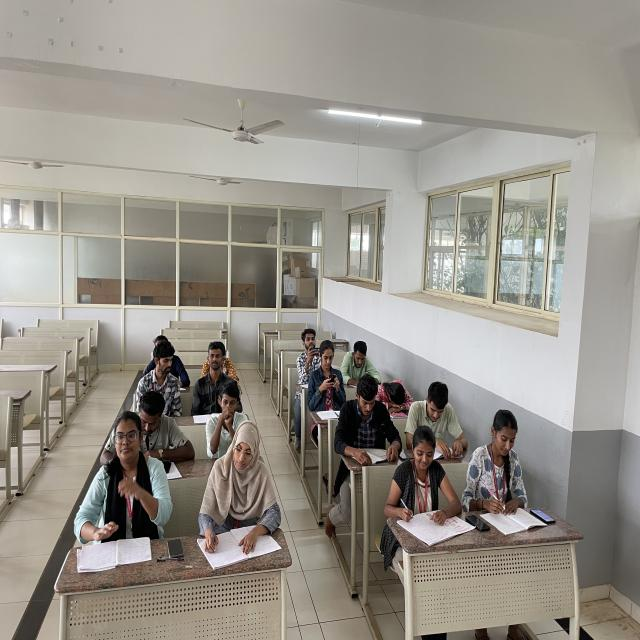Reading: (411, 378, 466, 462), (344, 374, 391, 462)
Sleeping: (377, 370, 415, 420)
Using Phone: (309, 341, 348, 413), (290, 326, 321, 384)
Writing: (200, 426, 285, 560), (392, 425, 463, 537), (464, 408, 532, 523)
